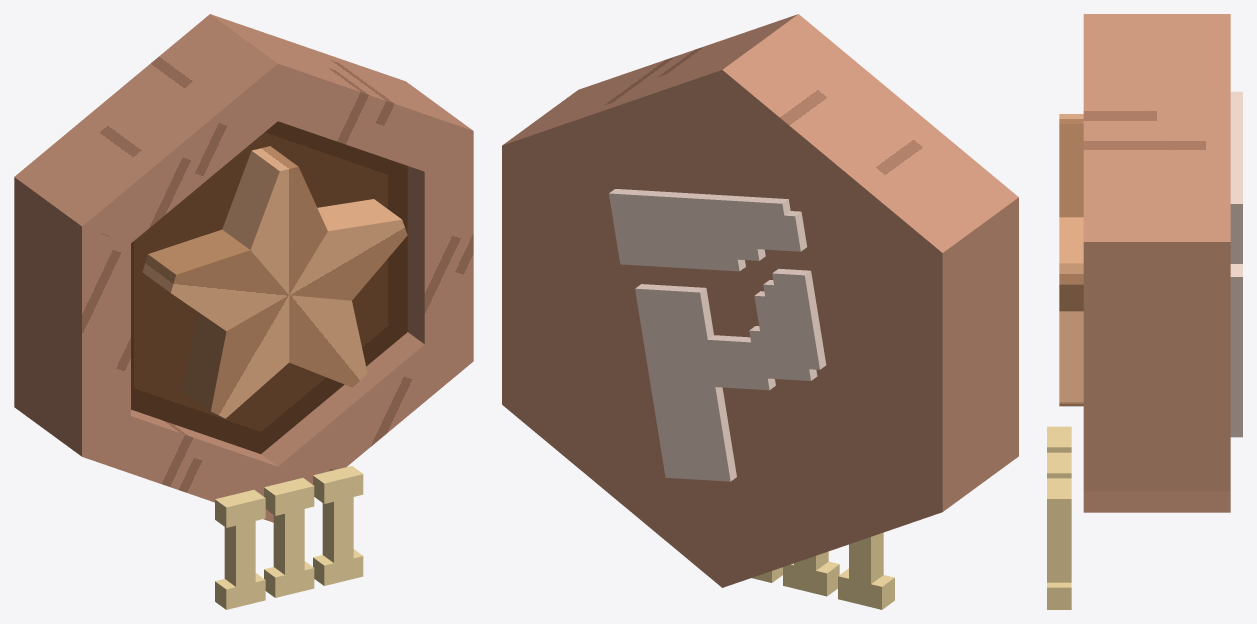
File: pvp_wood.gltf
3 views of the same model, side by side, from view 1: azimuth 30°, elevation 25°; view 2: azimuth 150°, elevation 25°; view 3: azimuth 270°, elevation 25° (orthographic). The views are drawn at different scales.
Visible parts, largest first — view 1: cylinder (×2), cuboid (×3); view 2: cylinder, p_logo, cuboid (×2); view 3: cylinder (×2), cuboid (×3), p_logo.
Part boxes in pixels (left/top/right/bottom): cylinder (×2): left=14, top=14, right=473, bottom=522; cuboid (×3): left=215, top=466, right=363, bottom=609; cylinder: left=502, top=14, right=1018, bottom=587; p_logo: left=609, top=189, right=826, bottom=481; cuboid (×2): left=783, top=532, right=894, bottom=609; cylinder (×2): left=1059, top=14, right=1230, bottom=512; cuboid (×3): left=1047, top=426, right=1071, bottom=609; p_logo: left=1230, top=91, right=1242, bottom=437.
Size of the model in its own units: 2.5 by 3.15 by 1.
3 materials, 3 textured.
